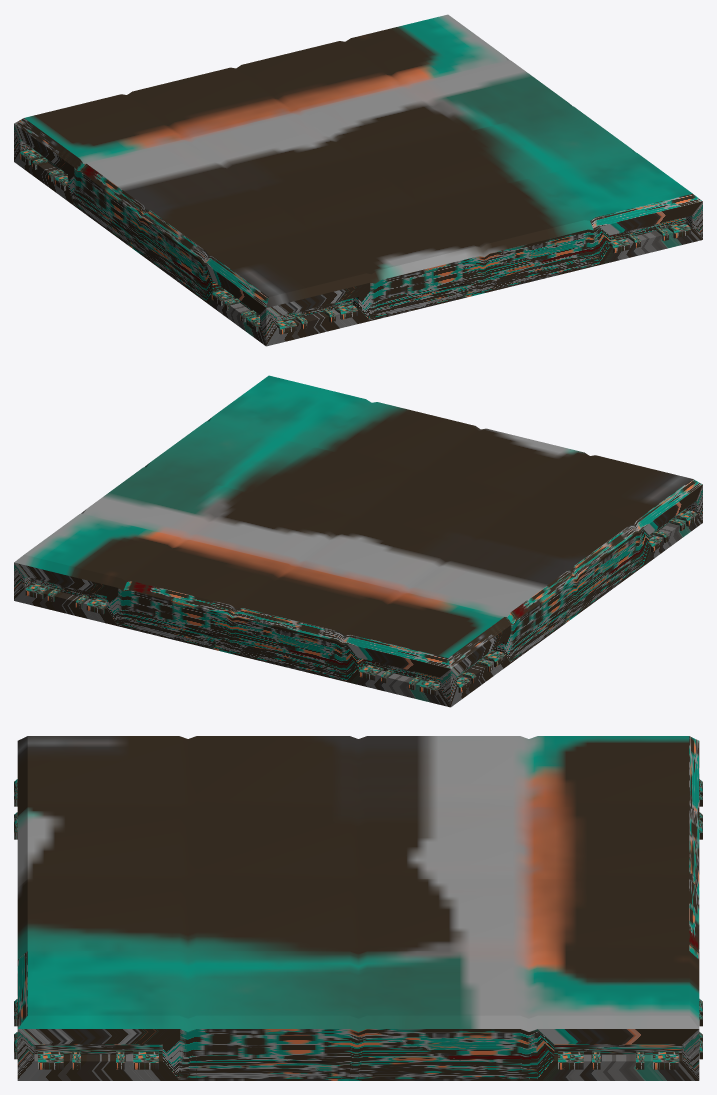
The model's file is sm_ui_inventory_panel_01.fbx.
3 views of the same model, one above another, from view 1: azimuth 30°, elevation 25°; view 2: azimuth 150°, elevation 25°; view 3: azimuth 270°, elevation 25° (orthographic). The views are drawn at different scales.
Parts seen in each view (by area): view 1: sm_ui_inventory_panel_01; view 2: sm_ui_inventory_panel_01; view 3: sm_ui_inventory_panel_01.
Boxes of the visible parts, x1,y1,x2,y2 form: sm_ui_inventory_panel_01: [14, 14, 702, 346]; sm_ui_inventory_panel_01: [14, 375, 702, 707]; sm_ui_inventory_panel_01: [14, 736, 702, 1080].
Bounding box in the file's own units: 204 × 19.96 × 204.
